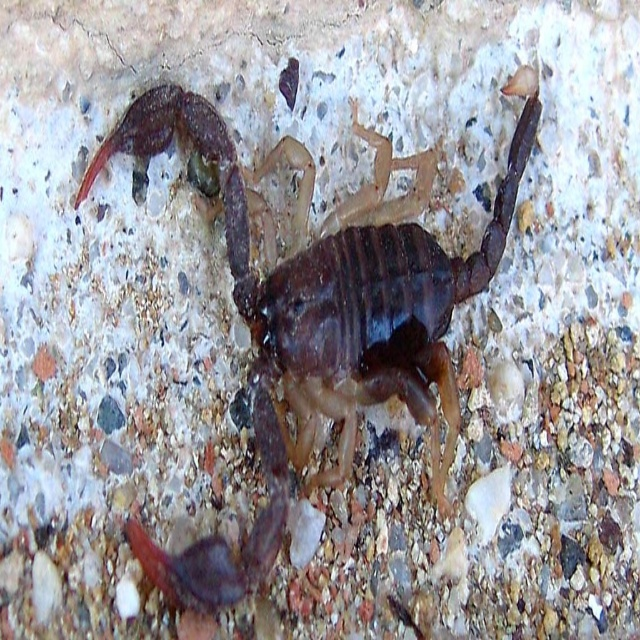Scorpion: (71, 62, 546, 618)
